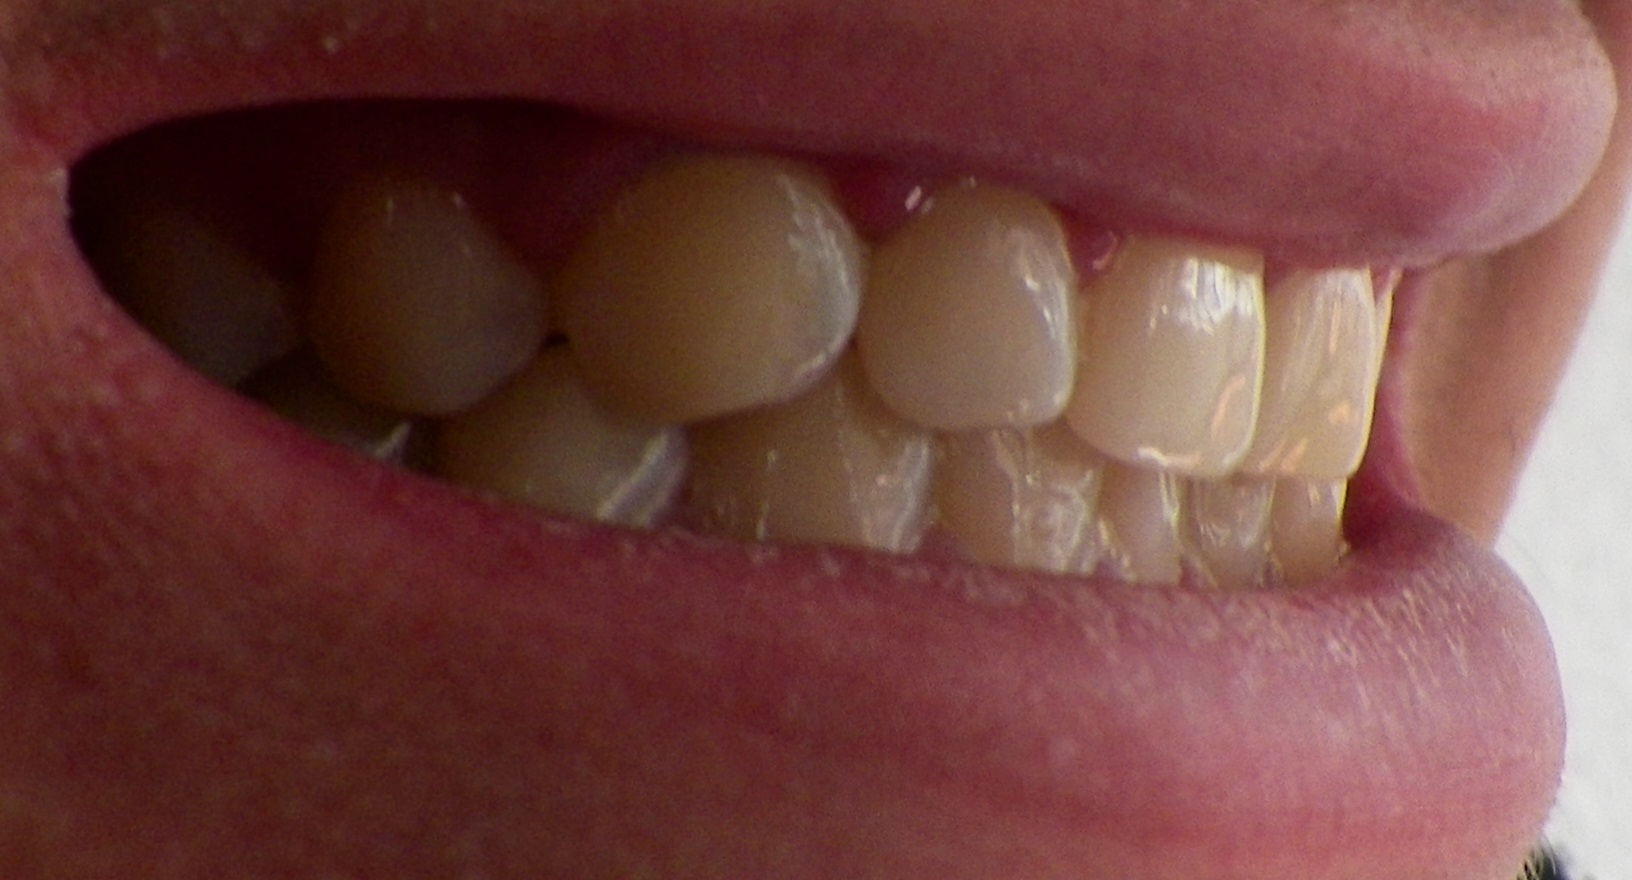boca: (129, 161, 1397, 584)
